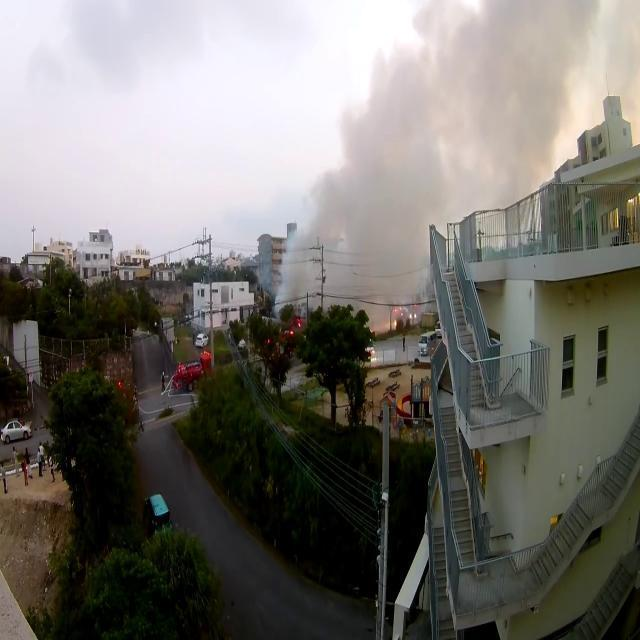Smoke: (275, 0, 555, 314)
